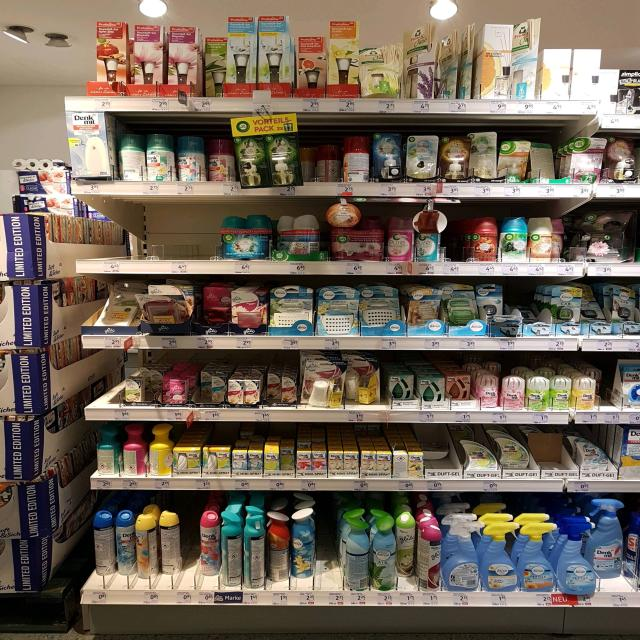void: (319, 512, 342, 605), (98, 201, 125, 279), (127, 202, 155, 276), (157, 203, 185, 274), (188, 207, 218, 273), (69, 205, 96, 276)
